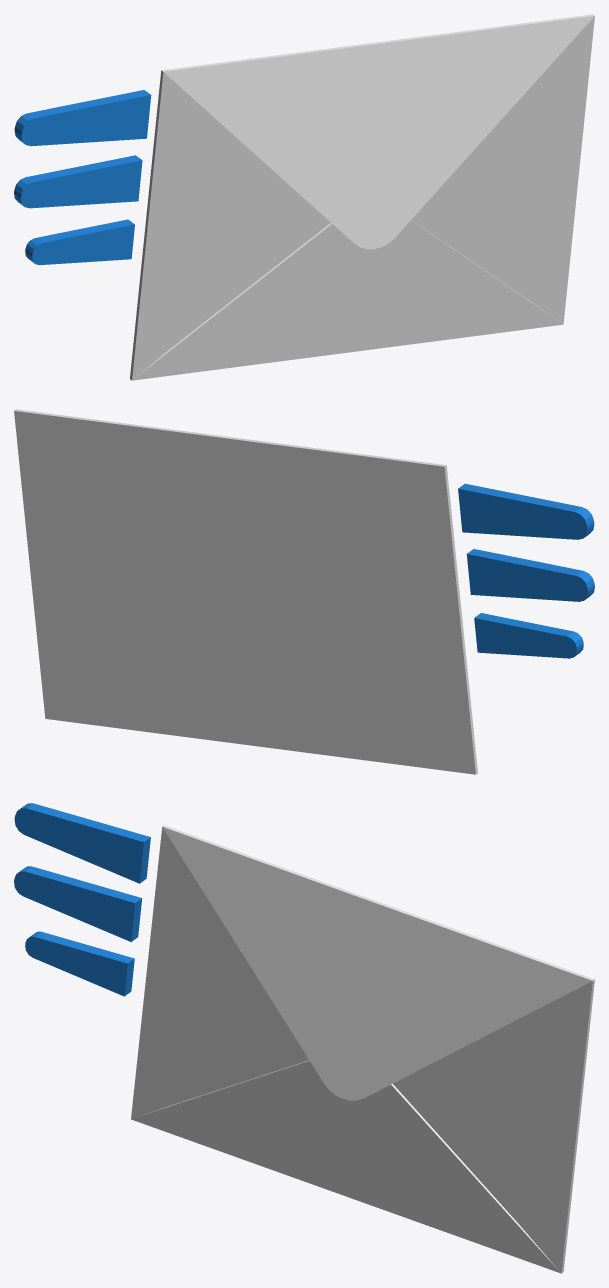
The model's file is incoming_envelope.glb.
3 views of the same model, one above another, from view 1: azimuth 30°, elevation 25°; view 2: azimuth 150°, elevation 25°; view 3: azimuth 330°, elevation 25° (orthographic).
Visible parts, largest first — view 1: Plane.334; view 2: Plane.334; view 3: Plane.334.
Part boxes in pixels (box(x1,y1,x2,y2)): Plane.334: box(14, 14, 594, 380); Plane.334: box(14, 409, 594, 774); Plane.334: box(14, 803, 594, 1273).
Size of the model in its own units: 2.29 by 1.33 by 0.13.
Materials: 1 (1 with a texture image).
